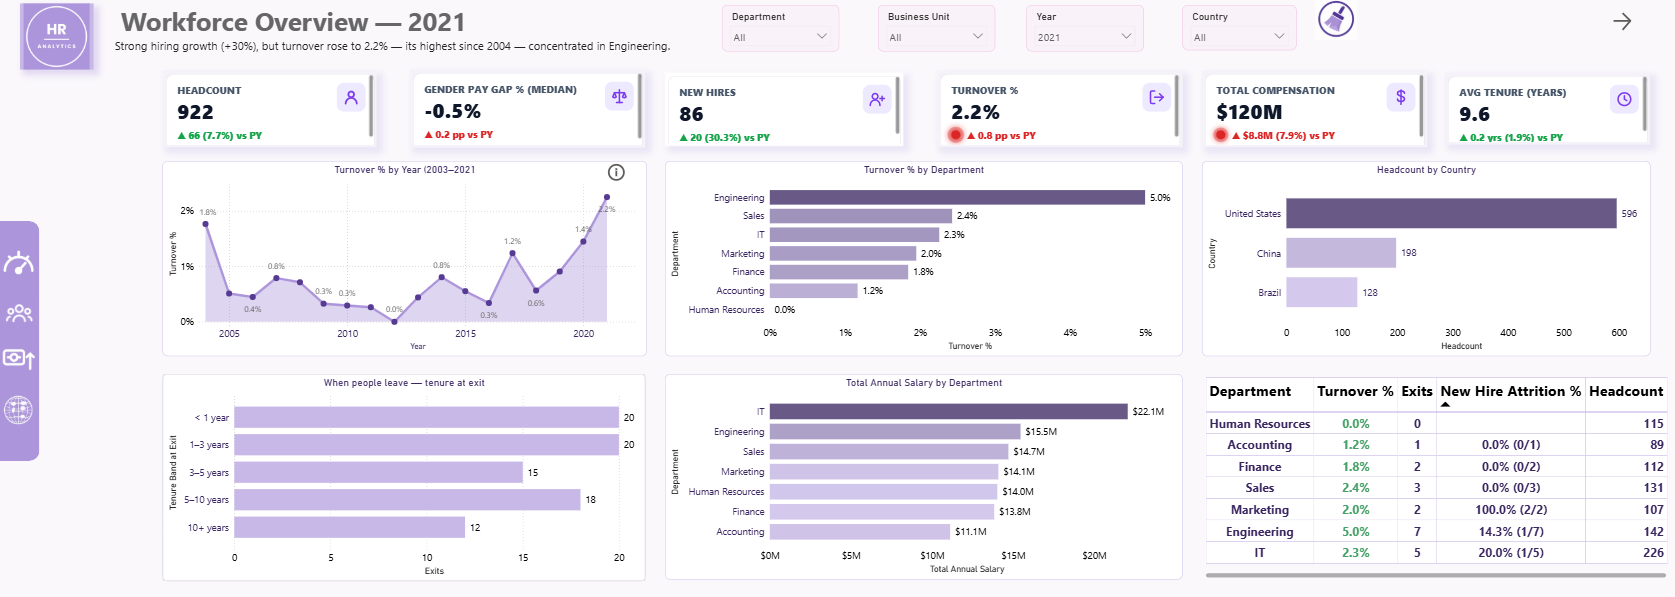

The dashboard page shown, as its layout file describes it:
{"tool":"powerbi","page":{"name":"Overview","canvas":[2800,1000],"ordinal":1},"visuals":[{"type":"slicer","fields":{"Values":["Dim_Date.Year"]},"box":[1712.5,10,195,77.5],"z":0},{"type":"barChart","title":"When people leave — tenure at exit","fields":{"Y":["Fact_Employees.Exits"],"Category":["Fact_Employees.Tenure Band at Exit"]},"box":[272.5,625,805,345],"z":1000},{"type":"slicer","fields":{"Values":["Dim_Location.Country"]},"box":[1972.5,10,190,75],"z":2000},{"type":"tableEx","fields":{"Values":["Dim_Job.Department","Fact_Employees.Turnover %","Fact_Employees.Exits","Fact_Employees.New Hire Attrition %","Fact_Employees.Headcount"]},"box":[2005,625,780,345],"z":3000},{"type":"lineChart","title":" Turnover % by Year (2003–2021","fields":{"Category":["Dim_Date.Year"],"Y":["Fact_Employees.Turnover %"]},"box":[272.5,270,807.5,325],"z":4000},{"type":"clusteredBarChart","fields":{"Y":["Fact_Employees.Headcount"],"Category":["Dim_Location.Country"]},"box":[2005,270,747.5,325],"z":5000},{"type":"actionButton","box":[1010,270,68.4,37.8],"z":6000},{"type":"htmlContent443BE3AD55E043BF878BED274D3A6855","fields":{"content":["Fact_Employees.Headcount Card HTML"]},"box":[272.5,120,357.5,127.5],"z":7000},{"type":"htmlContent443BE3AD55E043BF878BED274D3A6865","fields":{"content":["Fact_Employees.Gender Pay Gap % (Median) Card HTML"]},"box":[685,117.5,392.5,130],"z":8000},{"type":"htmlContent443BE3AD55E043BF878BED274D3A6865","fields":{"content":["Fact_Employees.Turnover % Card HTML"]},"box":[1562.5,120,410,127.5],"z":9000},{"type":"htmlContent443BE3AD55E043BF878BED274D3A6855","fields":{"content":["Fact_Employees.Total Compensation Card HTML"]},"box":[2005,120,375,127.5],"z":10000},{"type":"htmlContent443BE3AD55E043BF878BED274D3A6855","fields":{"content":["Fact_Employees.Avg Tenure (Years) Card HTML"]},"box":[2410,122.5,342.5,120],"z":11000},{"type":"image","box":[2165,0,127.4,67.9],"z":12000},{"type":"htmlContent443BE3AD55E043BF878BED274D3A6865","fields":{"content":["Fact_Employees.New Hires Card HTML"]},"box":[1110,122.5,397.5,122.5],"z":13000},{"type":"shape","box":[0,370,67.5,400],"z":14000},{"type":"image","box":[0,405,65,67.5],"z":15000},{"type":"image","box":[0,500,67.5,47.5],"z":16000},{"type":"image","box":[0,570,67.5,60],"z":17000},{"type":"slicer","fields":{"Values":["Dim_Job.Business Unit"]},"box":[1465,10,195,77.5],"z":18000},{"type":"slicer","fields":{"Values":["Dim_Job.Department"]},"box":[1205,10,195,77.5],"z":19000},{"type":"clusteredBarChart","fields":{"Category":["Dim_Job.Department"],"Y":["Fact_Employees.Turnover %"]},"box":[1110,270,862.5,325],"z":20000},{"type":"clusteredBarChart","fields":{"Category":["Dim_Job.Department"],"Y":["Fact_Employees.Total Annual Salary"]},"box":[1110,625,862.5,342.5],"z":21000},{"type":"textbox","box":[162.5,2.5,967.5,110],"z":22000},{"type":"image","box":[0,657.5,65,55],"z":23000},{"type":"image","box":[35,7.5,122.5,110],"z":24000},{"type":"actionButton","box":[2685,17.5,100,40],"z":25000}]}

Visuals, with their boxes in screenshot pixels (x1, y1, x2, y2), scaled from the page's 2800x1000 canvas onto the 1675x597 screenshot:
slicer - Dim_Date.Year: (left=1024, top=6, right=1141, bottom=52)
"When people leave — tenure at exit" barChart: (left=163, top=373, right=645, bottom=579)
slicer - Dim_Location.Country: (left=1180, top=6, right=1294, bottom=51)
tableEx - Dim_Job.Department x Fact_Employees.Turnover %: (left=1199, top=373, right=1666, bottom=579)
" Turnover % by Year (2003–2021" lineChart: (left=163, top=161, right=646, bottom=355)
clusteredBarChart - Fact_Employees.Headcount x Dim_Location.Country: (left=1199, top=161, right=1647, bottom=355)
actionButton: (left=604, top=161, right=645, bottom=184)
htmlContent443BE3AD55E043BF878BED274D3A6855 - Fact_Employees.Headcount Card HTML: (left=163, top=72, right=377, bottom=148)
htmlContent443BE3AD55E043BF878BED274D3A6865 - Fact_Employees.Gender Pay Gap % (Median) Card HTML: (left=410, top=70, right=645, bottom=148)
htmlContent443BE3AD55E043BF878BED274D3A6865 - Fact_Employees.Turnover % Card HTML: (left=935, top=72, right=1180, bottom=148)
htmlContent443BE3AD55E043BF878BED274D3A6855 - Fact_Employees.Total Compensation Card HTML: (left=1199, top=72, right=1424, bottom=148)
htmlContent443BE3AD55E043BF878BED274D3A6855 - Fact_Employees.Avg Tenure (Years) Card HTML: (left=1442, top=73, right=1647, bottom=145)
image: (left=1295, top=0, right=1371, bottom=41)
htmlContent443BE3AD55E043BF878BED274D3A6865 - Fact_Employees.New Hires Card HTML: (left=664, top=73, right=902, bottom=146)
shape: (left=0, top=221, right=40, bottom=460)
image: (left=0, top=242, right=39, bottom=282)
image: (left=0, top=298, right=40, bottom=327)
image: (left=0, top=340, right=40, bottom=376)
slicer - Dim_Job.Business Unit: (left=876, top=6, right=993, bottom=52)
slicer - Dim_Job.Department: (left=721, top=6, right=838, bottom=52)
clusteredBarChart - Dim_Job.Department x Fact_Employees.Turnover %: (left=664, top=161, right=1180, bottom=355)
clusteredBarChart - Dim_Job.Department x Fact_Employees.Total Annual Salary: (left=664, top=373, right=1180, bottom=578)
textbox: (left=97, top=1, right=676, bottom=67)
image: (left=0, top=393, right=39, bottom=425)
image: (left=21, top=4, right=94, bottom=70)
actionButton: (left=1606, top=10, right=1666, bottom=34)
